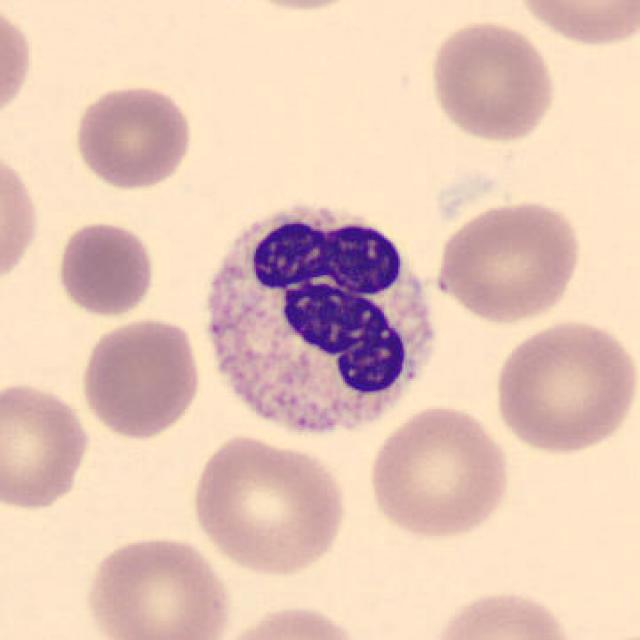Neutrophil: (192, 190, 453, 452)
RBC: (185, 432, 350, 578), (364, 402, 514, 543), (489, 316, 638, 456), (430, 196, 585, 326), (425, 16, 560, 146), (80, 530, 233, 640), (76, 314, 205, 442), (70, 80, 196, 192), (0, 375, 92, 513), (52, 217, 158, 319), (424, 583, 581, 640), (508, 0, 638, 49), (0, 143, 43, 291), (212, 601, 370, 640), (0, 2, 36, 128)
